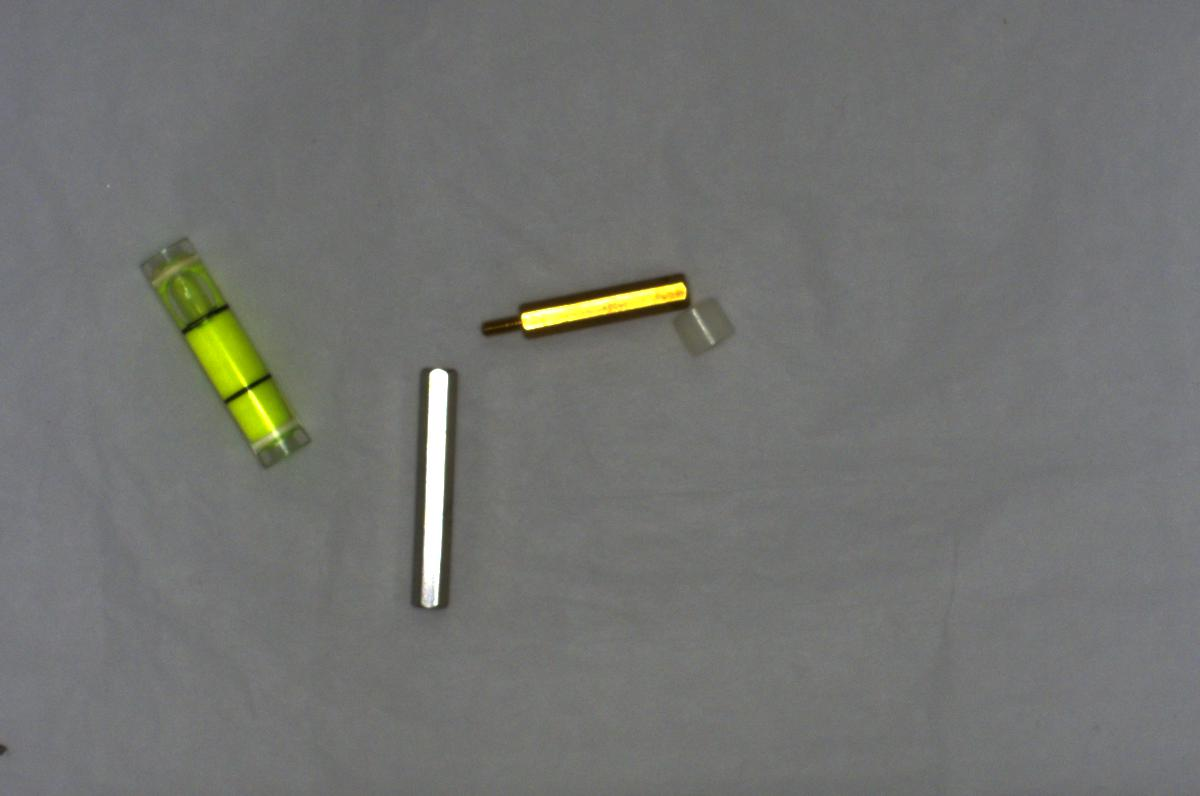Double hexagonal column: (410, 359, 459, 619)
Hexagon pillar: (478, 269, 697, 340)
Horizontal bubble: (135, 234, 308, 466)
Plastic cushion pillar: (666, 292, 740, 360)
